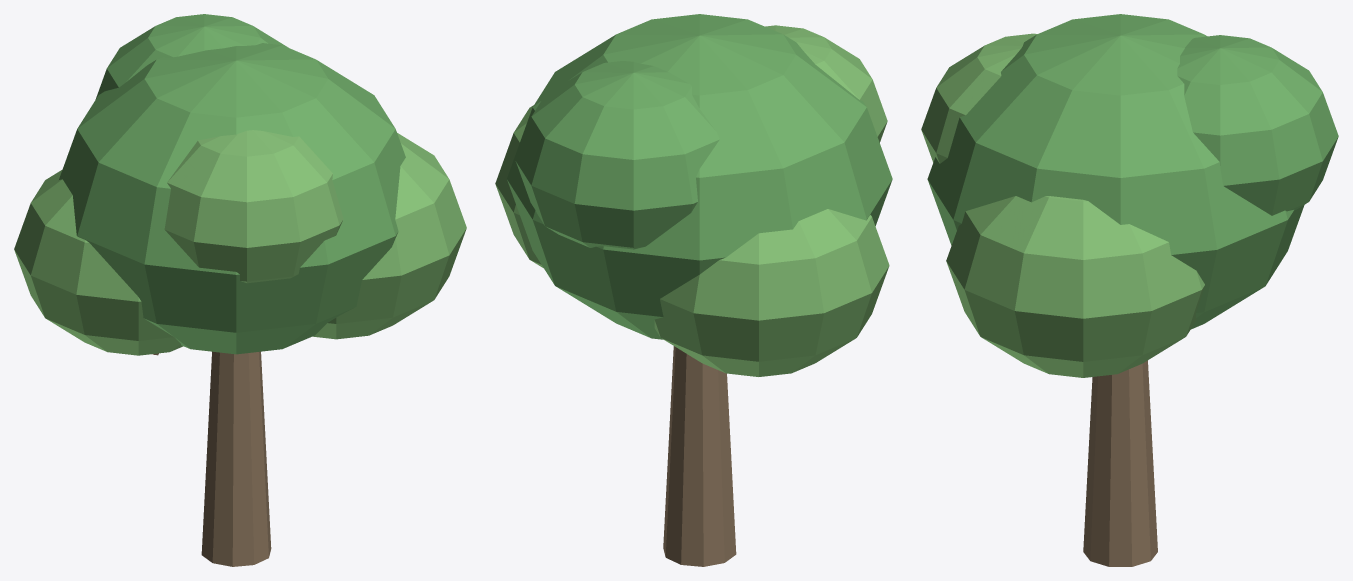
File: th5_baum_ahorn.glb
The picture shows the model from 3 angles, left to right: view 1: azimuth 30°, elevation 25°; view 2: azimuth 150°, elevation 25°; view 3: azimuth 270°, elevation 25°; orthographic projection. The views are drawn at different scales.
Parts seen in each view (by area): view 1: Sphere, Sphere.004, Sphere.001, Cone, Sphere.002, Sphere.003; view 2: Sphere, Sphere.003, Sphere.001, Cone, Sphere.004, Sphere.002; view 3: Sphere, Sphere.002, Sphere.003, Cone, Sphere.004.
Boxes of the visible parts, bbox=[...] form: Sphere: bbox=[59, 43, 405, 354]; Sphere.004: bbox=[164, 130, 343, 283]; Sphere.001: bbox=[14, 170, 183, 355]; Cone: bbox=[201, 351, 271, 566]; Sphere.002: bbox=[313, 133, 466, 339]; Sphere.003: bbox=[95, 14, 288, 99]; Sphere: bbox=[507, 14, 892, 339]; Sphere.003: bbox=[515, 61, 719, 249]; Sphere.001: bbox=[654, 209, 889, 376]; Cone: bbox=[663, 346, 736, 566]; Sphere.004: bbox=[765, 25, 887, 142]; Sphere.002: bbox=[495, 105, 543, 267]; Sphere: bbox=[927, 14, 1304, 329]; Sphere.002: bbox=[946, 196, 1204, 377]; Sphere.003: bbox=[1177, 35, 1338, 215]; Cone: bbox=[1083, 360, 1157, 566]; Sphere.004: bbox=[921, 33, 1037, 163].
Size of the model in its own units: 3.7 by 4.57 by 3.35.
